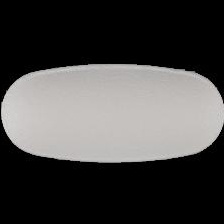49999-038: (0, 0, 224, 224)
